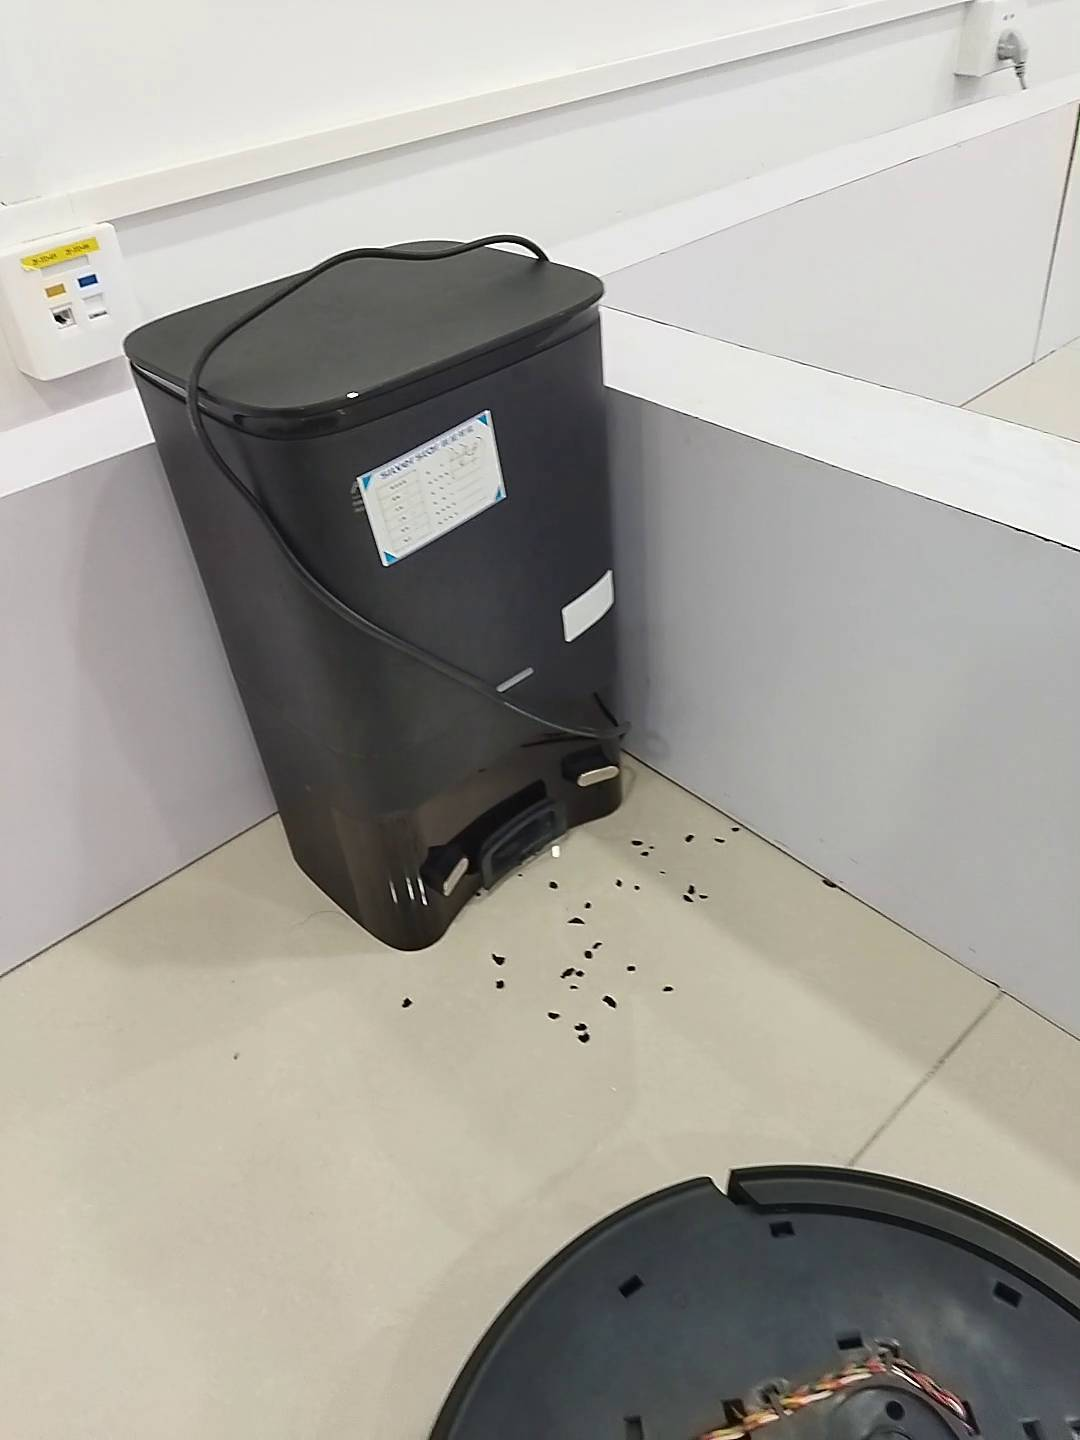dust collecting barrel: (125, 242, 628, 954)
